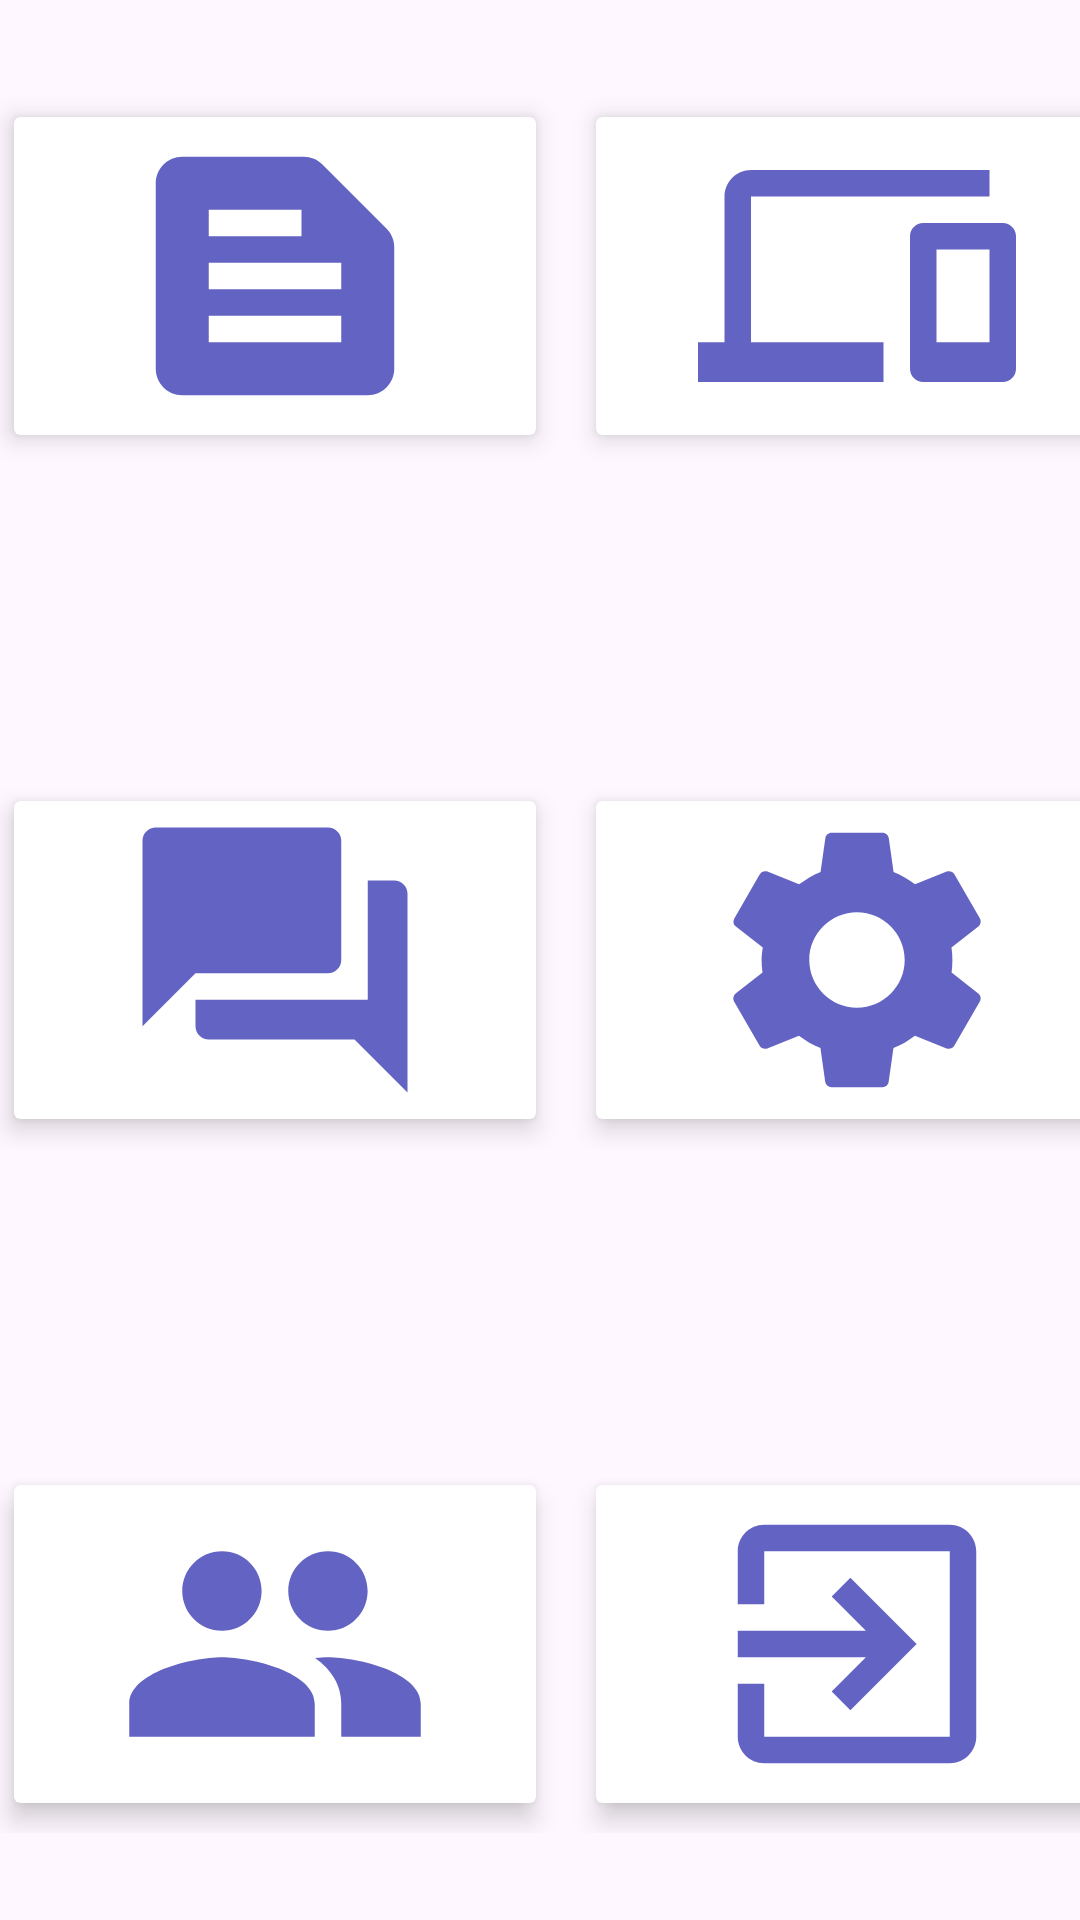

Screen size 1080 × 1920. Icon name, then its center in pixels as (x,y):
about us: (275,1644)
exit app: (857,1644)
settings: (857,960)
